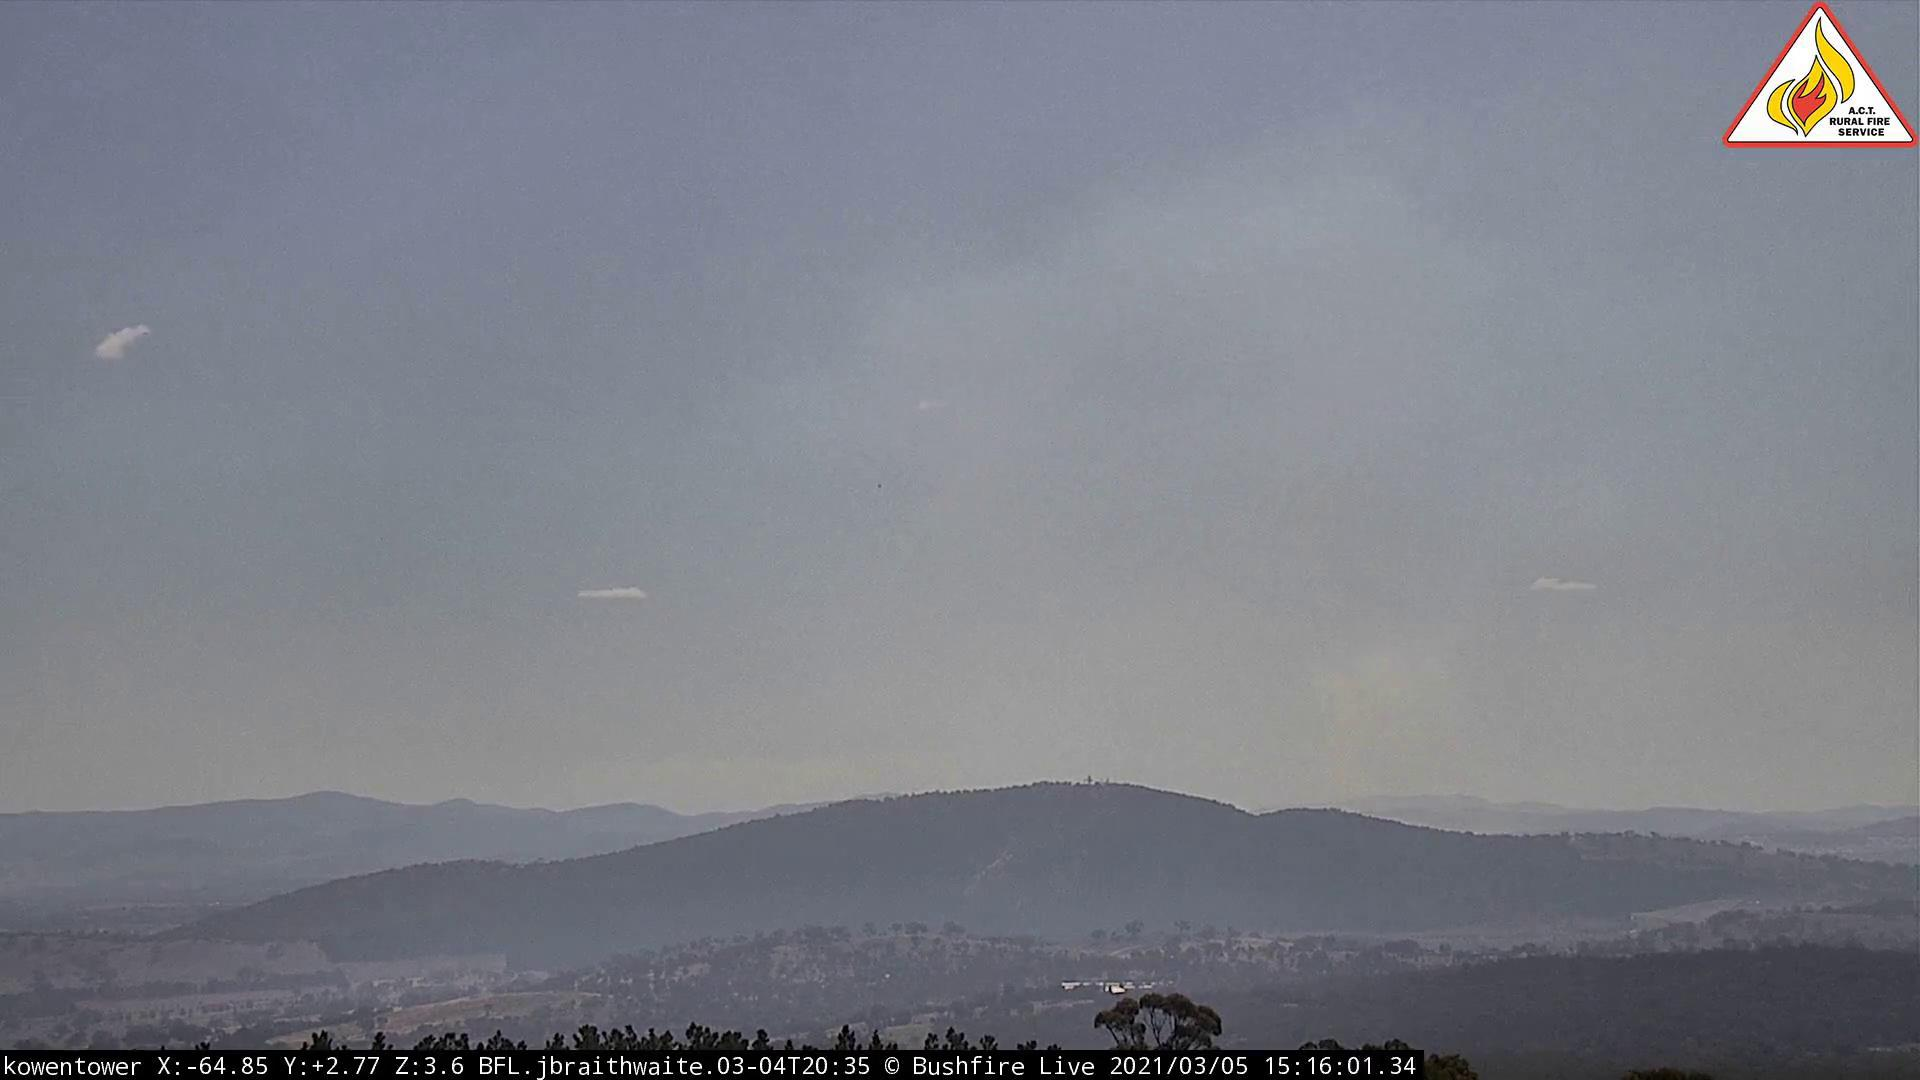Smoke: (1083, 378, 1526, 837)
